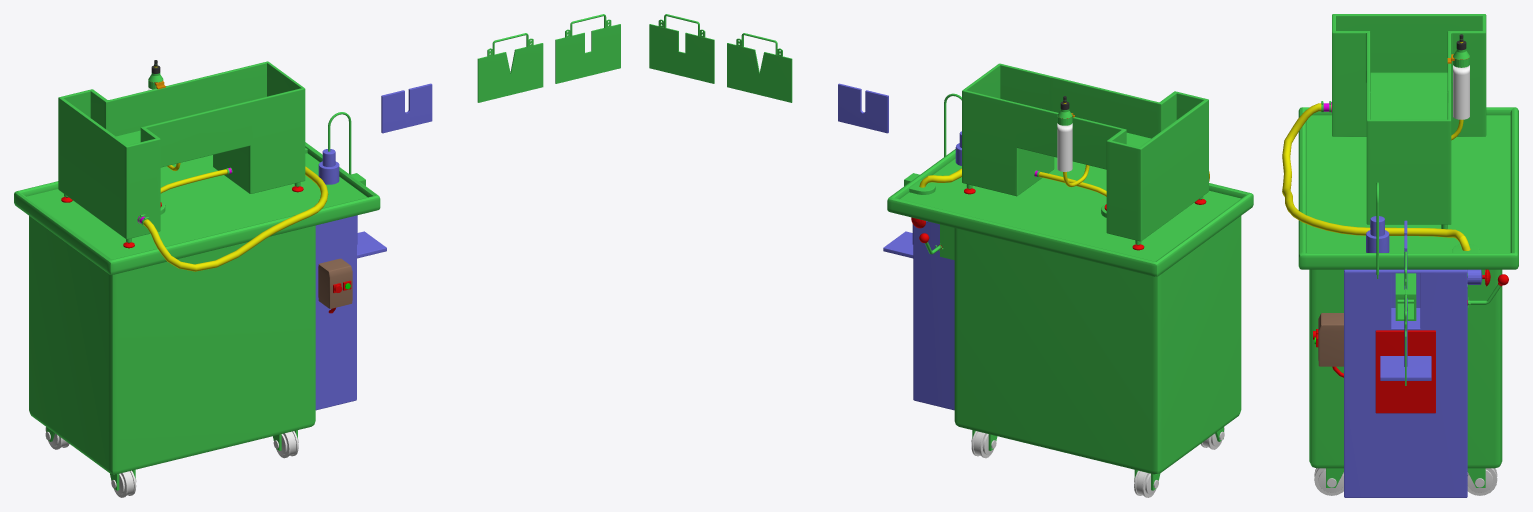
File: Dam_Table_FIX (3).fbx
The picture shows the model from 3 angles, left to right: view 1: azimuth 30°, elevation 25°; view 2: azimuth 150°, elevation 25°; view 3: azimuth 270°, elevation 25°; orthographic projection. The views are drawn at different scales.
Visible parts, largest first — view 1: pCube3, pCylinder24, pCube4, pCube21, pCylinder52, pCylinder58, pCube15, pCube14; view 2: pCube3, pCylinder24, pCube4, pCube21, pCylinder52, pCube15, polySurface32; view 3: pCube3, pCube4, pCylinder24, pCylinder58, pCube14, TableX01_1:pTorus1, pCylinder13, polySurface32, pCylinder17, pCylinder6, pCylinder2, pTorus2.
Part boxes in pixels (x1=…): pCube3: x1=14, y1=142, x2=380, y2=497; pCylinder24: x1=58, y1=61, x2=305, y2=248; pCube4: x1=315, y1=215, x2=356, y2=410; pCube21: x1=477, y1=33, x2=543, y2=102; pCylinder52: x1=555, y1=14, x2=620, y2=83; pCylinder58: x1=137, y1=166, x2=328, y2=271; pCube15: x1=381, y1=83, x2=432, y2=133; pCube14: x1=318, y1=258, x2=352, y2=313; pCube3: x1=887, y1=149, x2=1253, y2=497; pCylinder24: x1=962, y1=63, x2=1208, y2=250; pCube4: x1=913, y1=222, x2=954, y2=410; pCube21: x1=727, y1=33, x2=792, y2=102; pCylinder52: x1=649, y1=14, x2=714, y2=83; pCube15: x1=838, y1=83, x2=888, y2=133; polySurface32: x1=1057, y1=123, x2=1072, y2=171; pCube3: x1=1298, y1=107, x2=1518, y2=495; pCube4: x1=1344, y1=269, x2=1470, y2=497; pCylinder24: x1=1332, y1=14, x2=1486, y2=229; pCylinder58: x1=1282, y1=101, x2=1470, y2=250; pCube14: x1=1316, y1=313, x2=1343, y2=377; TableX01_1:pTorus1: x1=1380, y1=298, x2=1431, y2=380; pCylinder13: x1=1395, y1=273, x2=1416, y2=320; polySurface32: x1=1453, y1=65, x2=1469, y2=119; pCylinder17: x1=1366, y1=216, x2=1389, y2=252; pCylinder6: x1=1467, y1=269, x2=1490, y2=286; pCylinder2: x1=1468, y1=274, x2=1508, y2=307; pTorus2: x1=1376, y1=182, x2=1378, y2=278.
Size of the model in its own units: 241 by 153 by 78.44.
